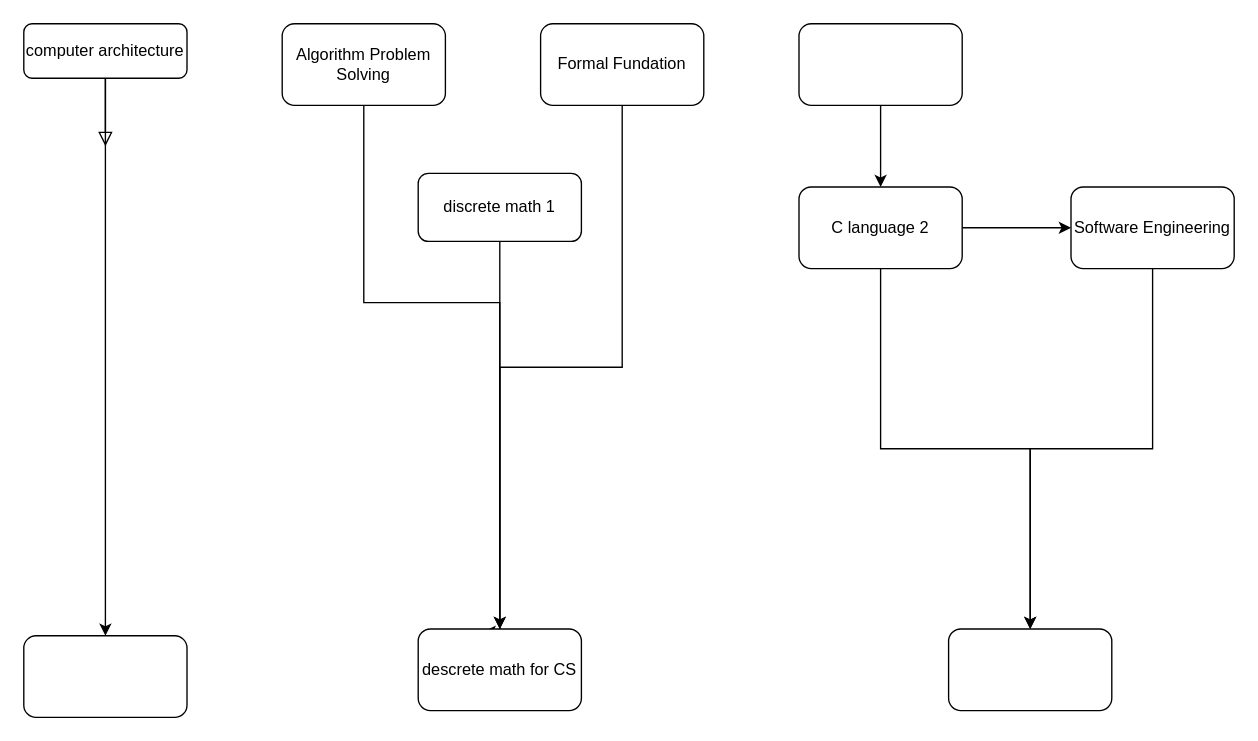
Some shapes in this 1258 by 741 pixel diagram are drawn without their labels. The shapes that lost their labels are listed below. From the top down, each one's centre as x and y in pixels, then its label:
the point at 880,63: C language 1
the point at 104,675: digital system
the point at 1029,669: Intro to Java
